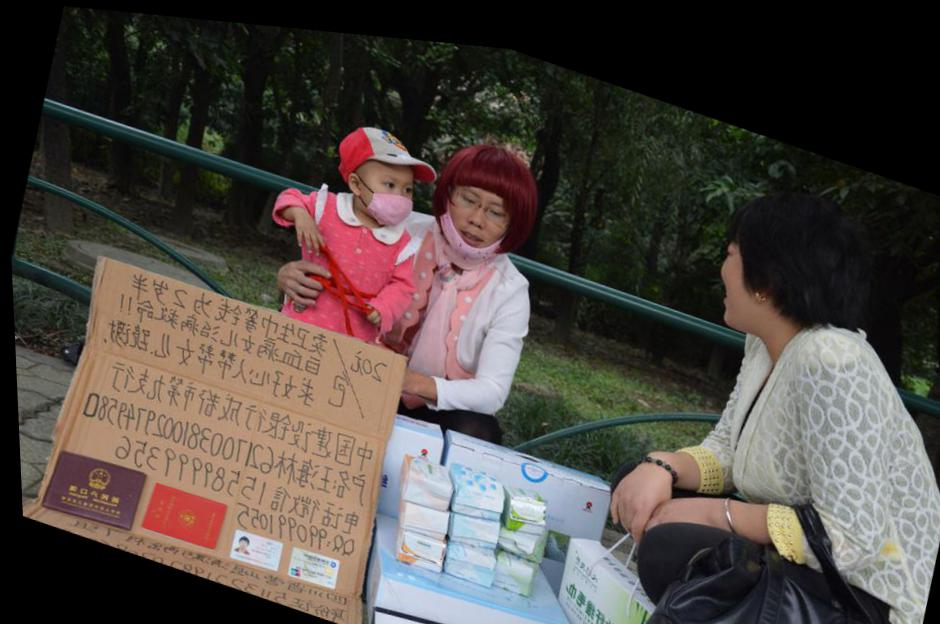NONE: (697, 226, 790, 328)
OK: (352, 152, 422, 225)
WRONG: (433, 166, 523, 259)
